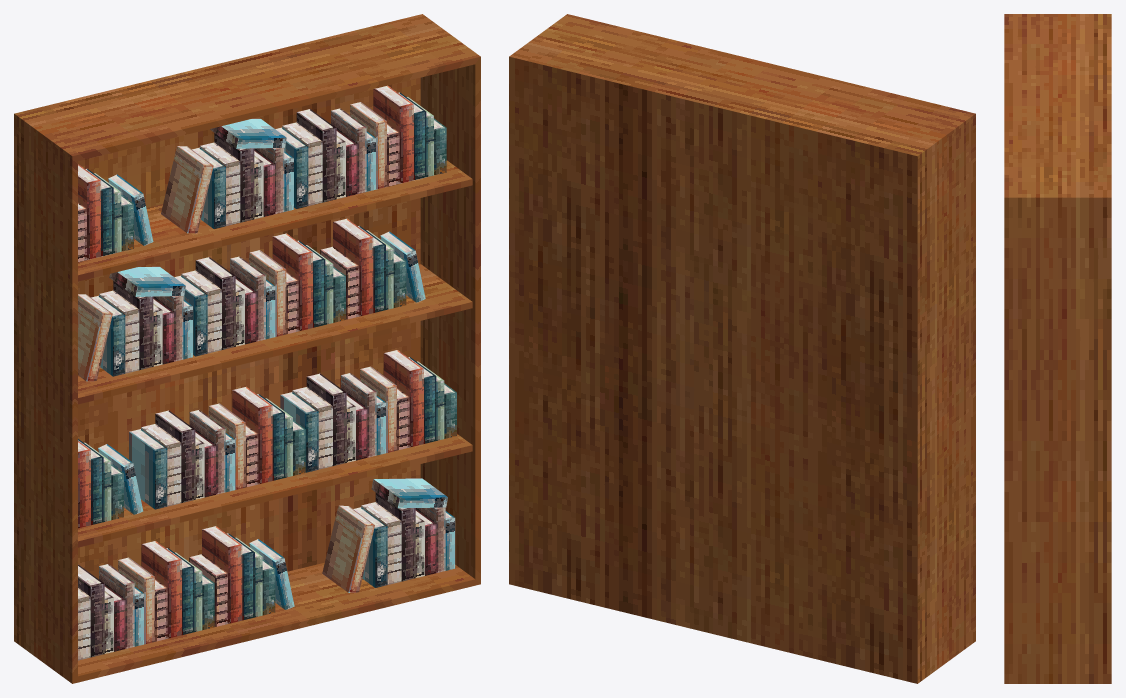
The model's file is full_bookshelf.glb.
The picture shows the model from 3 angles, left to right: view 1: azimuth 30°, elevation 25°; view 2: azimuth 150°, elevation 25°; view 3: azimuth 270°, elevation 25°; orthographic projection. The views are drawn at different scales.
Parts seen in each view (by area): view 1: book_case_with_back, books5, books4, books7, books6, books, books_alt23, books_alt25, books_alt26, books_alt, books_alt6, books_alt3 (+1 smaller); view 2: book_case_with_back; view 3: book_case_with_back.
Boxes of the visible parts, x1,y1,x2,y2 form: book_case_with_back: (14,14,480,683); books5: (129,386,305,509); books4: (280,350,456,472); books7: (275,85,446,208); books6: (174,233,345,356); books: (78,541,214,660); books_alt23: (322,478,455,592); books_alt25: (161,118,293,233); books_alt26: (78,266,192,381); books_alt: (189,526,294,626); books_alt6: (320,218,425,319); books_alt3: (78,164,153,262); book_case_with_back: (509,14,975,683); book_case_with_back: (1004,14,1111,683).
Bounding box in the file's own units: 2.03 × 2.5 × 0.5.
Materials: 4 (4 with a texture image).
